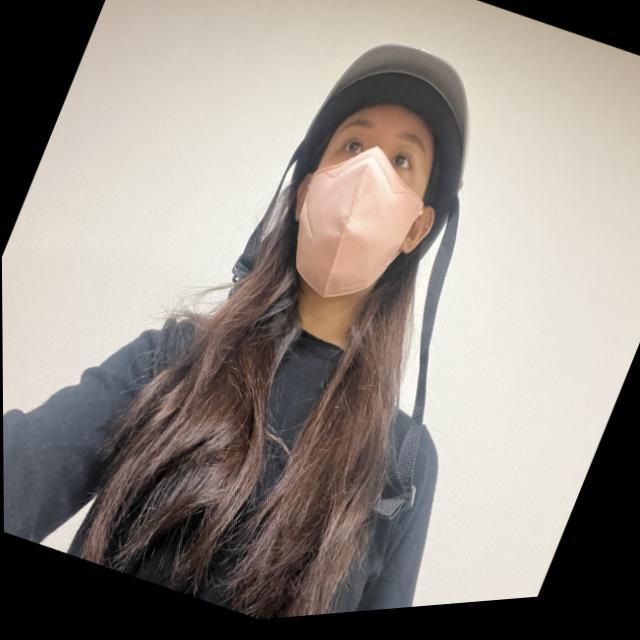Helmet: (274, 41, 485, 322)
